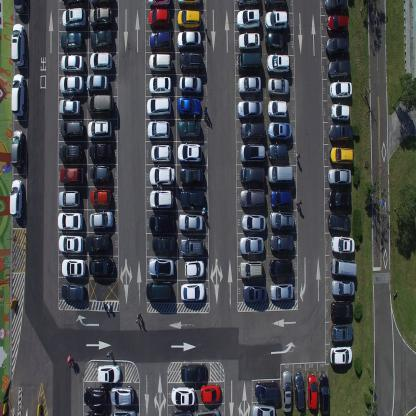car: (11, 72, 25, 118), (11, 22, 25, 67), (324, 34, 350, 58), (87, 93, 114, 116), (10, 128, 25, 169), (88, 256, 116, 277), (9, 177, 23, 219), (59, 73, 84, 96), (180, 280, 206, 302), (149, 256, 175, 278), (181, 361, 207, 383), (255, 379, 281, 401), (149, 164, 175, 186), (146, 96, 172, 118), (236, 50, 262, 72), (148, 212, 175, 233), (148, 29, 172, 52), (177, 141, 202, 163), (328, 122, 353, 144), (146, 279, 171, 301), (110, 384, 135, 406), (149, 188, 174, 210), (87, 118, 112, 140), (328, 79, 353, 101), (179, 187, 205, 208), (236, 99, 262, 120), (267, 164, 293, 185), (57, 210, 83, 231), (85, 233, 111, 254), (239, 187, 265, 208), (239, 142, 266, 162), (327, 209, 350, 232), (179, 164, 203, 186), (83, 385, 107, 407), (177, 96, 201, 118), (59, 141, 83, 163), (89, 50, 113, 72), (62, 8, 86, 30), (60, 30, 84, 52), (179, 51, 203, 73), (236, 9, 260, 31), (266, 54, 290, 76), (328, 144, 353, 165), (89, 209, 114, 230), (61, 257, 86, 278), (241, 212, 266, 233), (178, 212, 204, 232), (58, 233, 84, 253), (239, 164, 265, 184), (329, 257, 356, 276), (177, 118, 200, 140), (90, 27, 112, 50), (89, 6, 112, 28), (264, 31, 287, 53), (240, 119, 264, 140), (270, 280, 294, 301), (329, 343, 353, 364), (318, 372, 330, 414), (148, 52, 172, 73), (325, 13, 349, 34), (180, 236, 205, 256), (171, 386, 196, 406), (61, 281, 86, 301), (326, 60, 351, 80), (282, 368, 293, 413), (328, 187, 351, 208), (330, 299, 353, 320), (330, 321, 353, 342), (147, 119, 170, 140), (89, 141, 112, 162), (147, 8, 170, 29), (97, 364, 121, 384), (327, 166, 351, 186), (269, 257, 293, 277), (243, 282, 267, 302), (60, 52, 84, 72), (264, 10, 288, 30), (239, 259, 263, 279), (269, 211, 294, 230), (176, 30, 201, 49), (294, 370, 306, 409), (201, 382, 222, 404), (90, 187, 112, 208), (268, 76, 290, 97), (331, 233, 354, 253), (270, 232, 293, 252), (60, 119, 83, 139), (58, 97, 81, 117), (177, 9, 200, 29), (331, 277, 355, 296), (152, 235, 176, 254), (178, 75, 202, 94), (59, 166, 84, 184), (239, 236, 264, 254), (270, 188, 292, 208), (238, 75, 261, 94), (267, 122, 291, 140), (148, 76, 172, 94), (184, 258, 205, 278), (307, 372, 318, 410), (58, 188, 80, 207), (86, 73, 108, 92), (238, 32, 260, 51), (267, 100, 287, 120), (268, 142, 288, 162), (90, 164, 110, 184), (330, 102, 351, 121), (150, 144, 172, 162), (323, 0, 348, 13), (251, 403, 275, 415), (196, 406, 222, 416), (112, 406, 136, 416), (13, 0, 27, 15), (264, 0, 286, 9), (62, 0, 86, 8), (236, 0, 260, 8), (86, 407, 110, 415), (178, 0, 201, 8), (147, 0, 170, 8), (171, 408, 193, 416), (90, 0, 112, 6)
